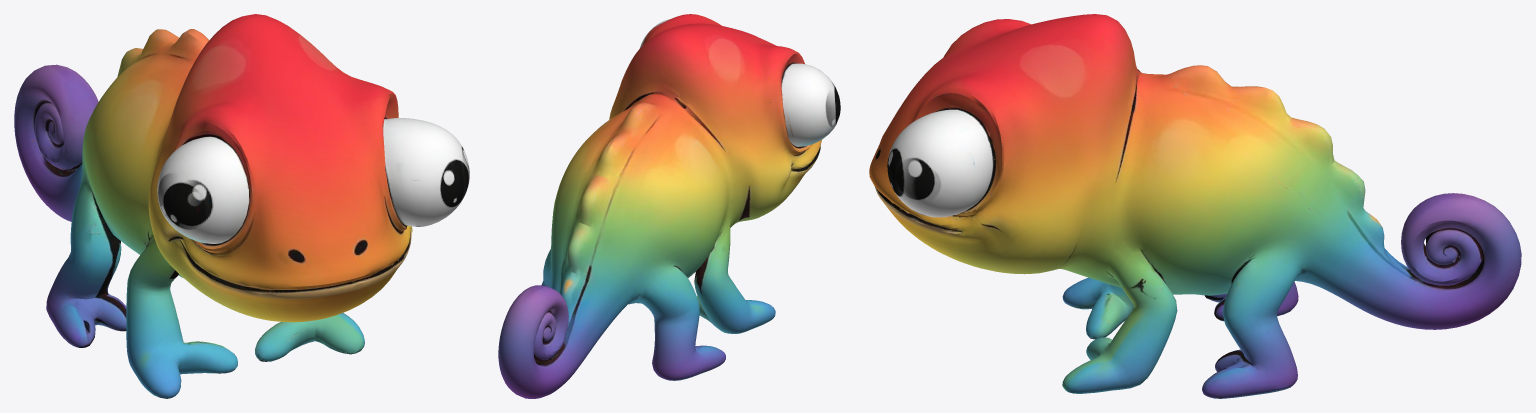
Rendered from pet_chroma.glb.
3 renders of one model, left to right at view 1: azimuth 30°, elevation 25°; view 2: azimuth 150°, elevation 25°; view 3: azimuth 270°, elevation 25°, orthographic. The views are drawn at different scales.
Size of the model in its own units: 0.8731 by 1.07 by 1.9.
Materials: 1 (1 with a texture image).
